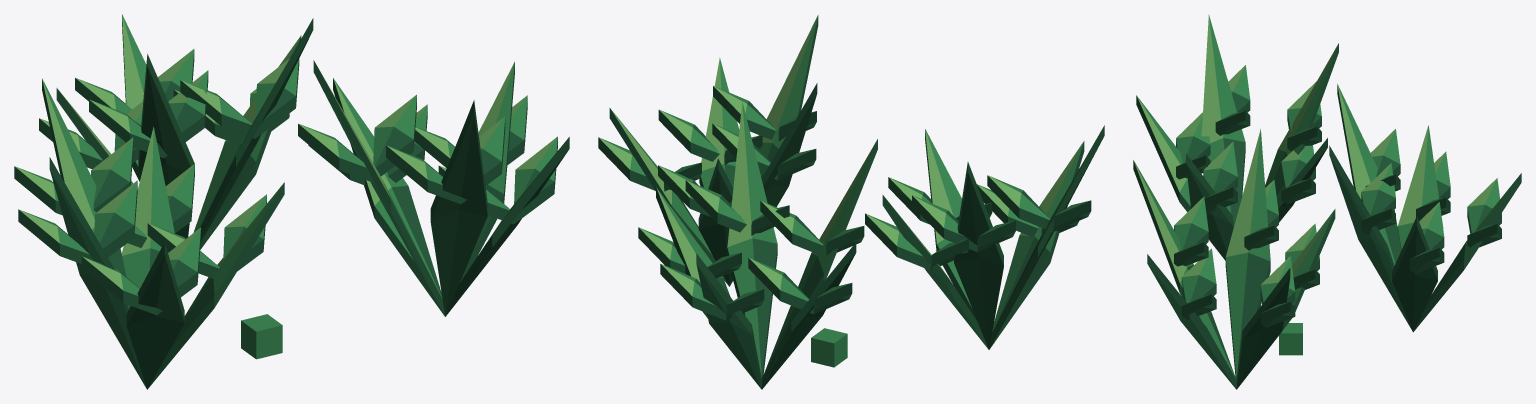
File: carrot_stage_02.fbx
3 renders of one model, left to right at view 1: azimuth 30°, elevation 25°; view 2: azimuth 150°, elevation 25°; view 3: azimuth 270°, elevation 25°, orthographic. The views are drawn at different scales.
Visible parts, largest first — view 1: carrot_stage_02__Foliage, carrot_stage_02__Origin; view 2: carrot_stage_02__Foliage, carrot_stage_02__Origin; view 3: carrot_stage_02__Foliage, carrot_stage_02__Origin.
Boxes of the visible parts, x1,y1,x2,y2 form: carrot_stage_02__Foliage: (14,14,569,389); carrot_stage_02__Origin: (241,314,282,359); carrot_stage_02__Foliage: (598,15,1104,389); carrot_stage_02__Origin: (811,328,847,367); carrot_stage_02__Foliage: (1133,14,1521,389); carrot_stage_02__Origin: (1279,323,1302,355).
Size of the model in its own units: 0.8118 by 0.428 by 0.6435.
Materials: 1 (1 with a texture image).
